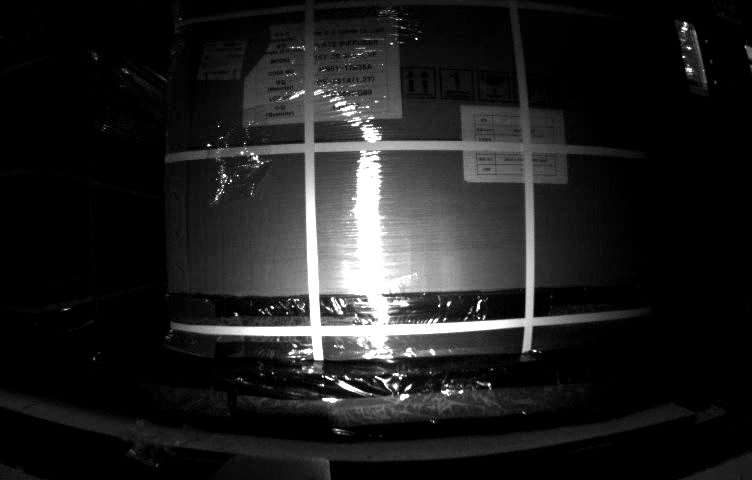True Barcode: (200, 40, 248, 82)
